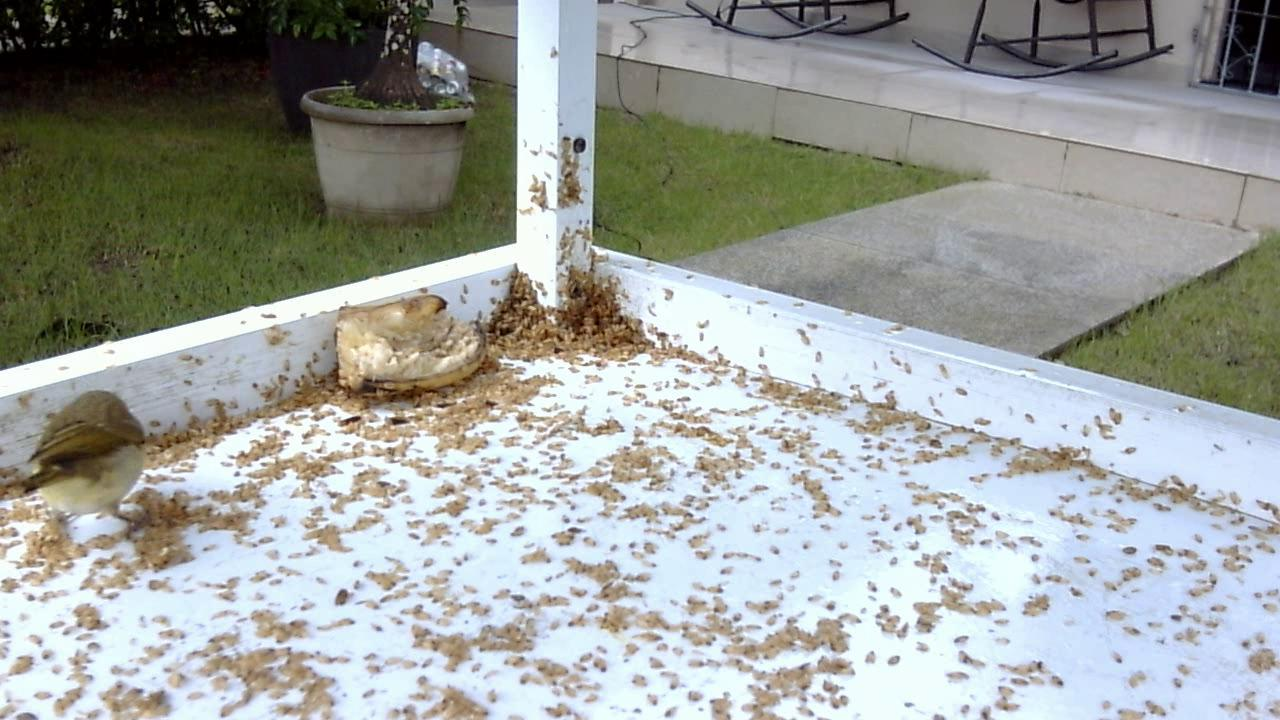canario_do_amazonas: (6, 382, 173, 551)
